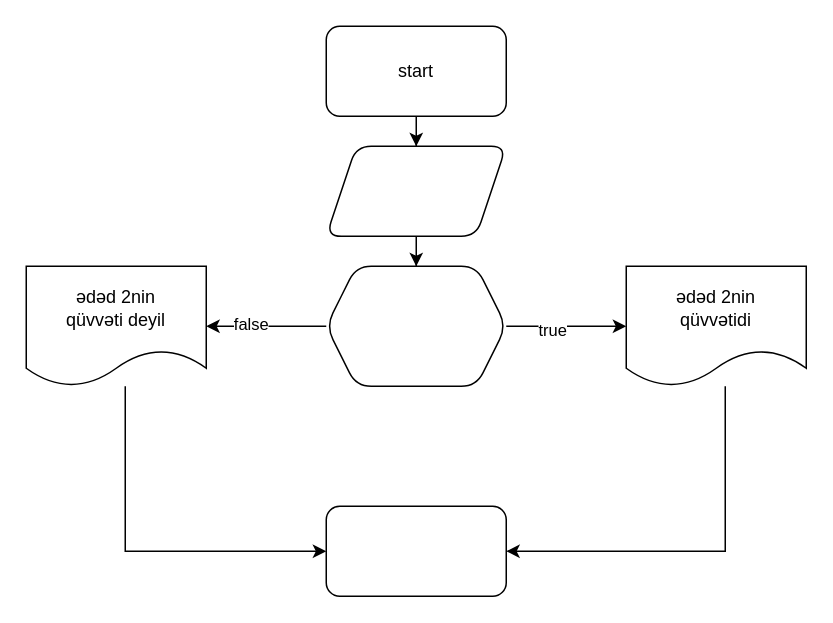
Some shapes in this 833 by 623 pixel diagram are drawn without their labels. The shapes that lost their labels are listed below. From the top down, each one's centre as x and y in pixels, then its label:
At pixel 415 190: "ədəd=5".
At pixel 415 325: "ədəd%2 ==0".
